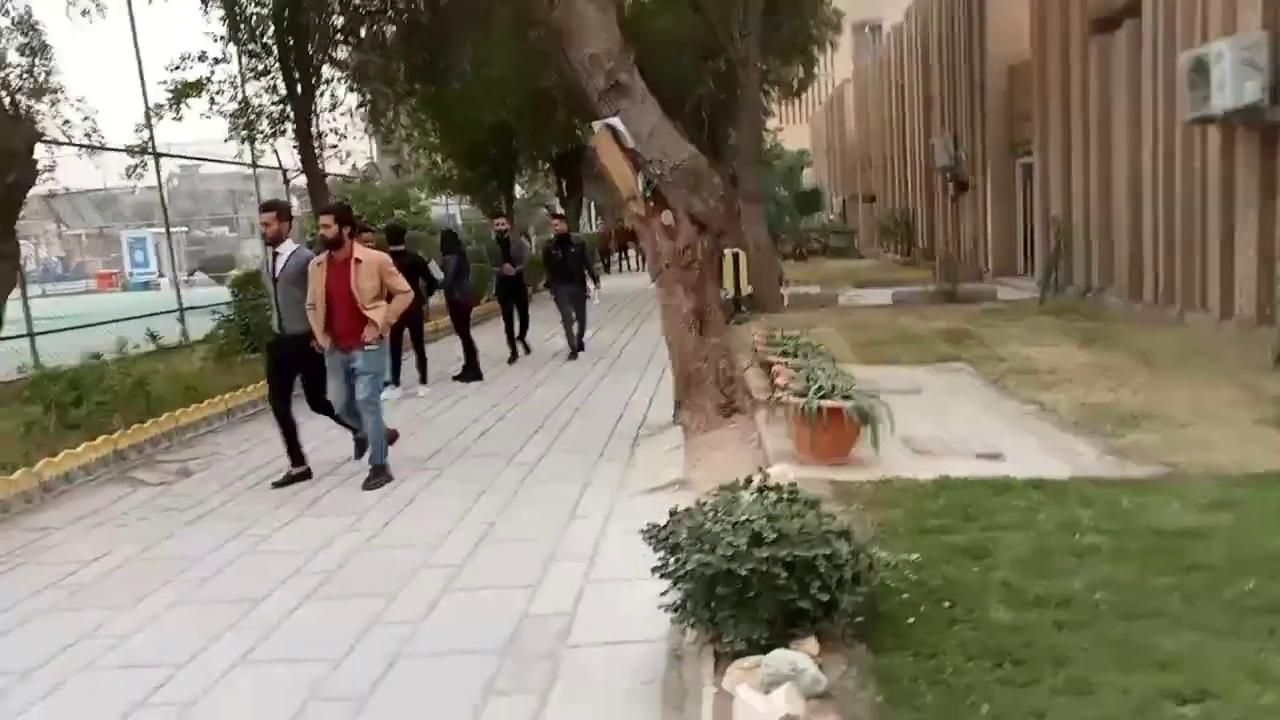person: (256, 198, 398, 488), (379, 222, 442, 400), (541, 214, 601, 360), (438, 228, 483, 382), (487, 212, 532, 364)
tree: (341, 0, 846, 478), (545, 1, 781, 480), (346, 0, 594, 301), (615, 0, 843, 314), (639, 465, 914, 717), (154, 0, 423, 254), (0, 0, 187, 364), (744, 324, 895, 466), (760, 139, 823, 261)
